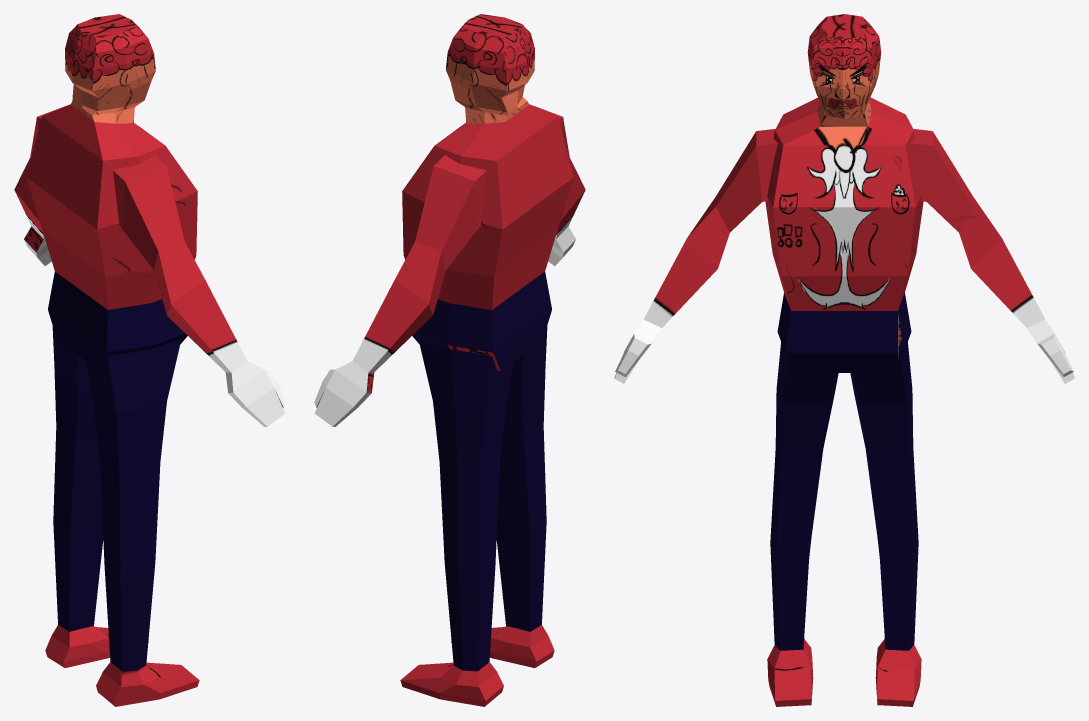
Rendered from CibleDuCul.fbx.
The picture shows the model from 3 angles, left to right: view 1: azimuth 30°, elevation 25°; view 2: azimuth 150°, elevation 25°; view 3: azimuth 270°, elevation 25°; orthographic projection.
Visible parts, largest first — view 1: Cube; view 2: Cube; view 3: Cube.
Part boxes in pixels (bbox=[...]): Cube: bbox=[14, 14, 285, 706]; Cube: bbox=[314, 14, 585, 706]; Cube: bbox=[614, 14, 1074, 706].
Bounding box in the file's own units: 79.62 × 440 × 281.
